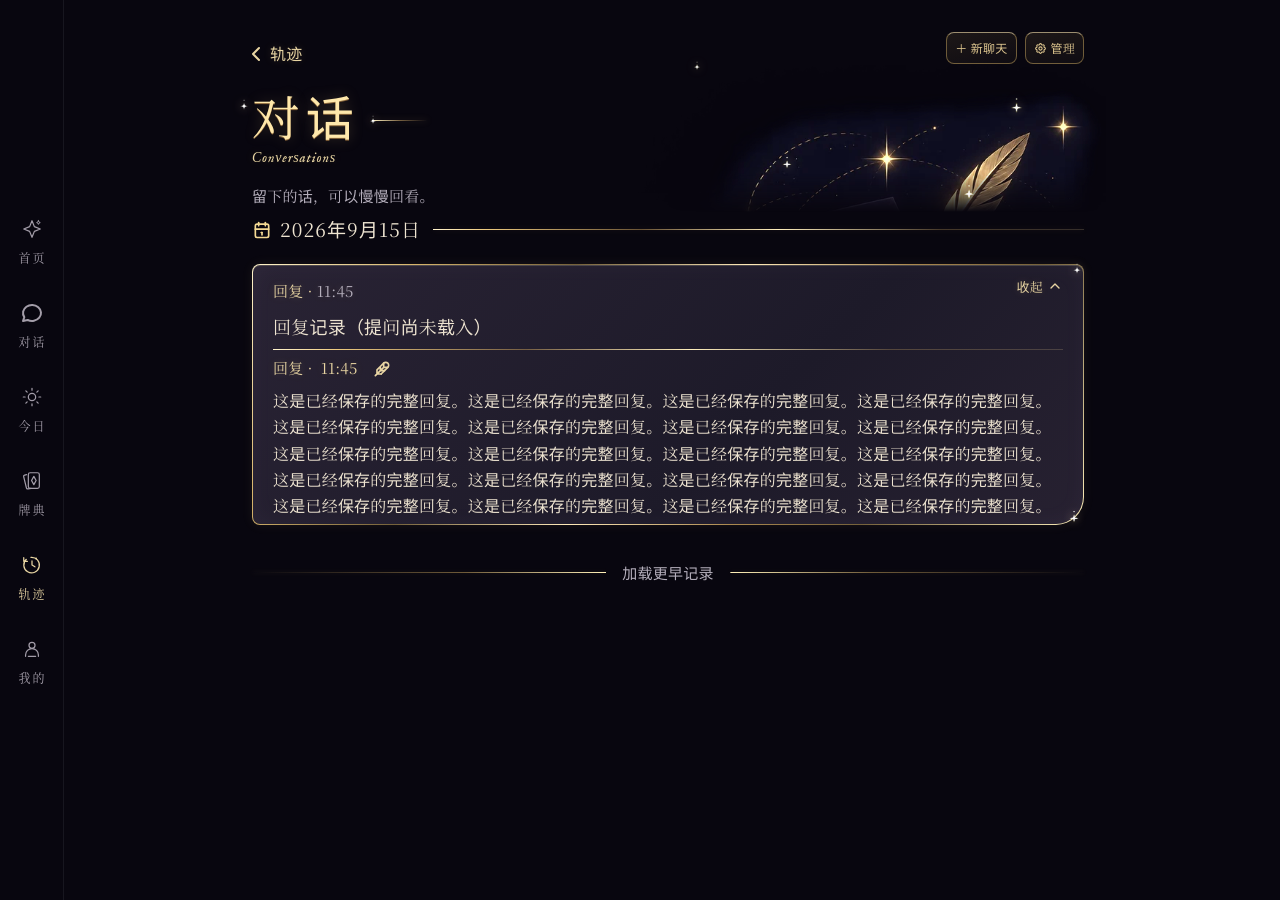
Scenario: 聊天记录分组与原文展示 › 分页按消息条数取偏移，跨页的提问补入同一问答
Expected: the button with aria-label "收起对话：回复记录" is shown, [273,264,1063,348]
Click the button "加载更早记录" at (668, 573), box [252,549,1084,597]
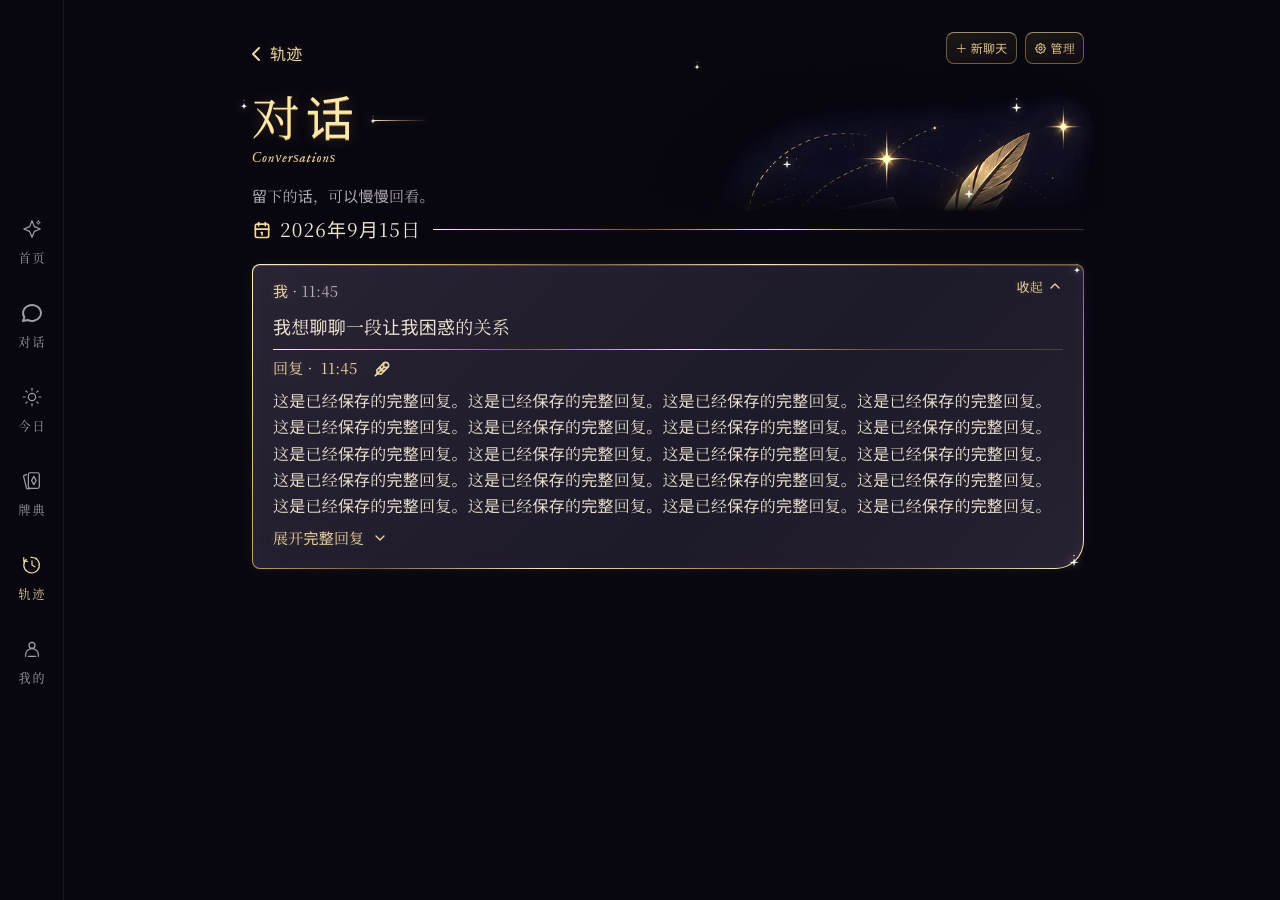
Expected: the button with aria-label "收起对话：我想聊聊" is shown, [273,264,1063,348]
Expected: the button "加载更早记录" is gone
